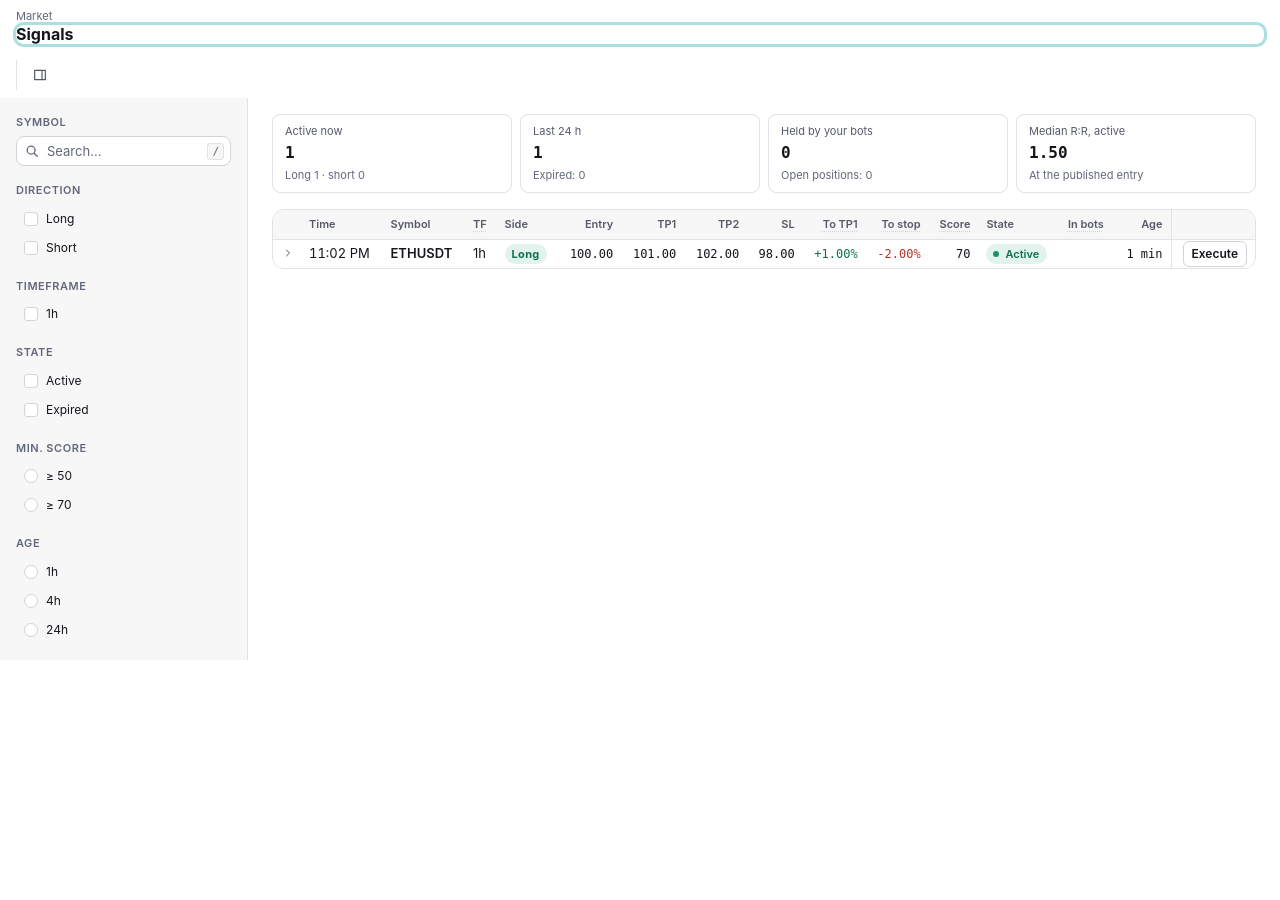
it: Execute on the Signals page › puts Take this signal now first, with the paper preview per fitting bot
Click the button "Execute": point(1215, 254) [1182, 241, 1247, 267]
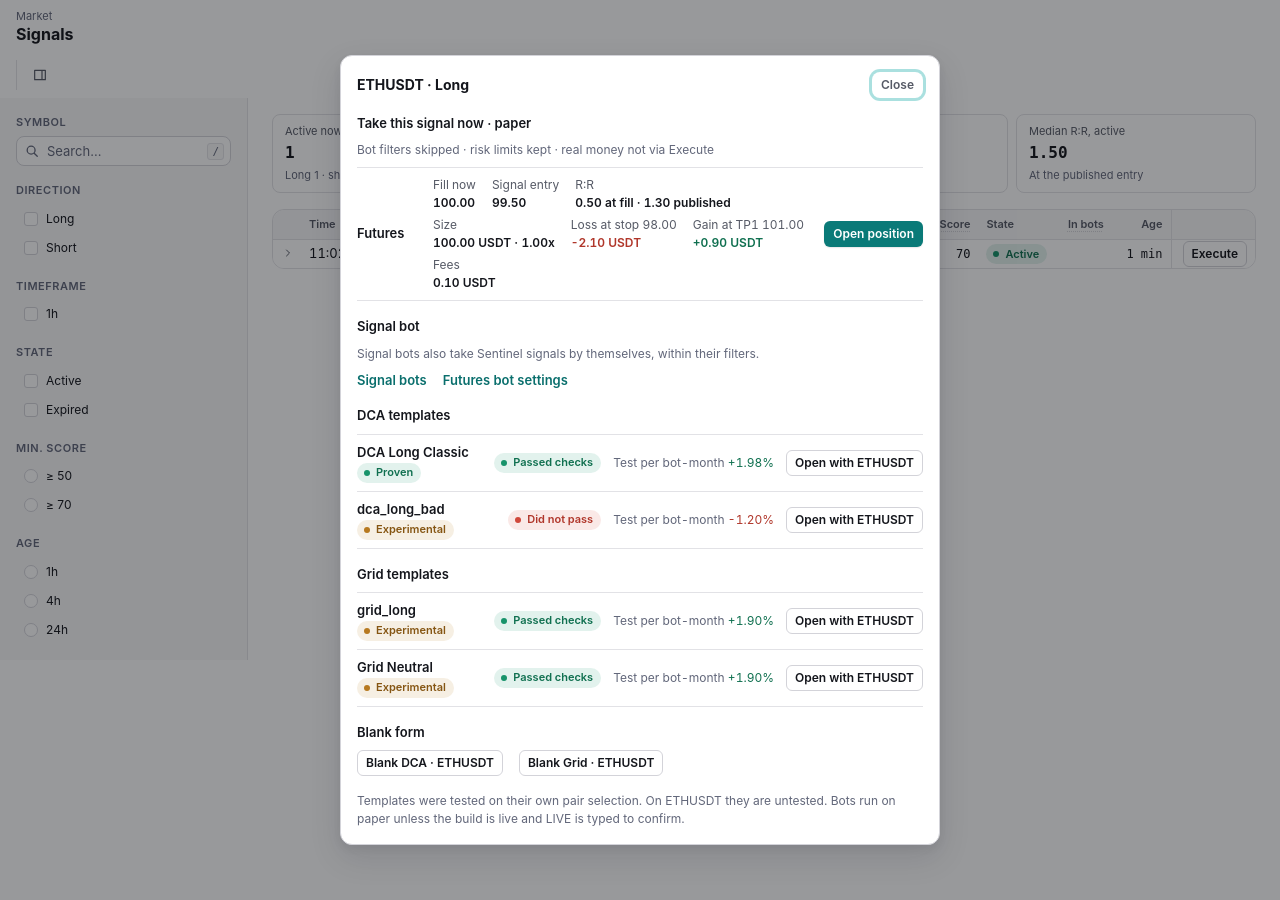
Now the list item that starts with "Futures" shows "Loss at stop 98", box [571, 217, 677, 232]
Now the list item that starts with "Futures" shows "-2.10", box [571, 235, 641, 250]
Now the list item that starts with "Futures" shows "Gain at TP1 101", box [693, 217, 804, 232]
